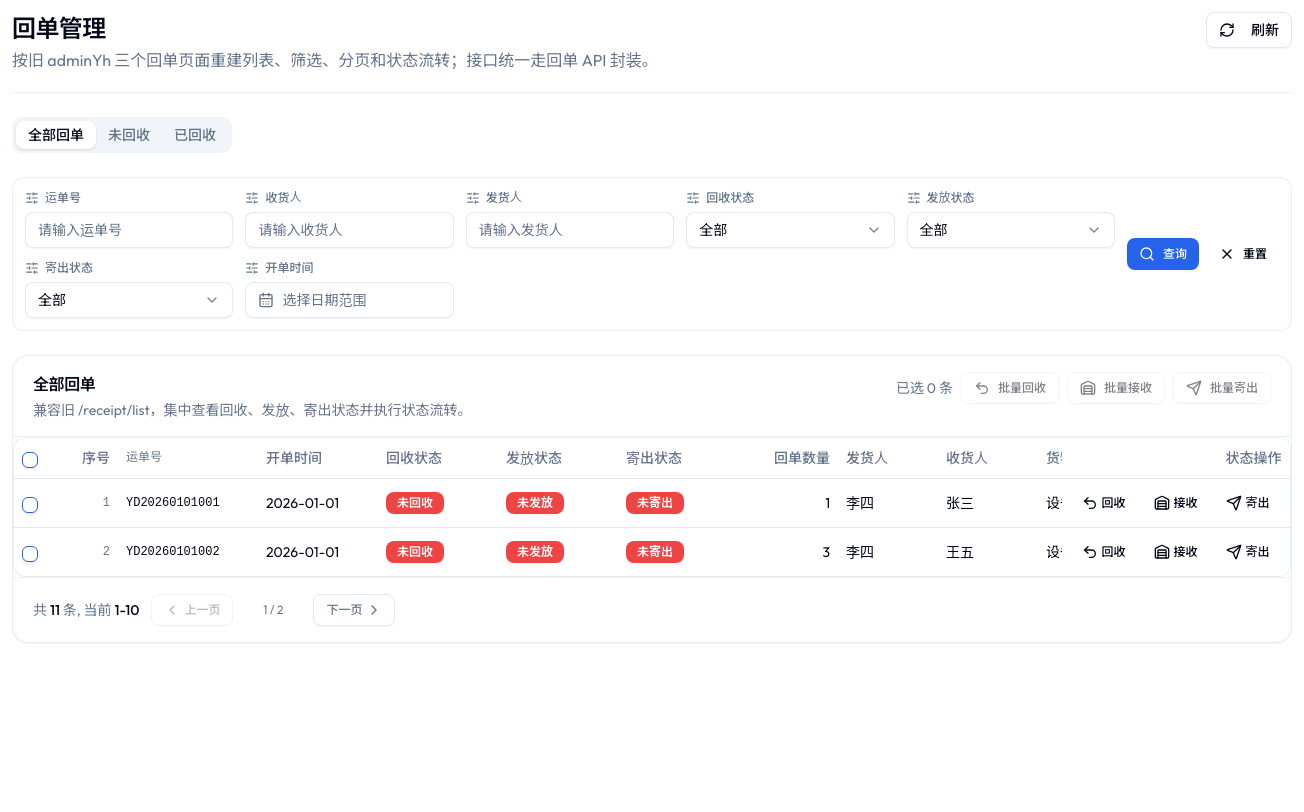
Scenario: ReceiptsList › resets pagination and selected rows when switching receipt modes
Check: the text "YD20260101001" is shown, box [118,478,258,527]
Click the checkbox named "选择回单 YD20260101001" at (30, 504), box [22,496,38,512]
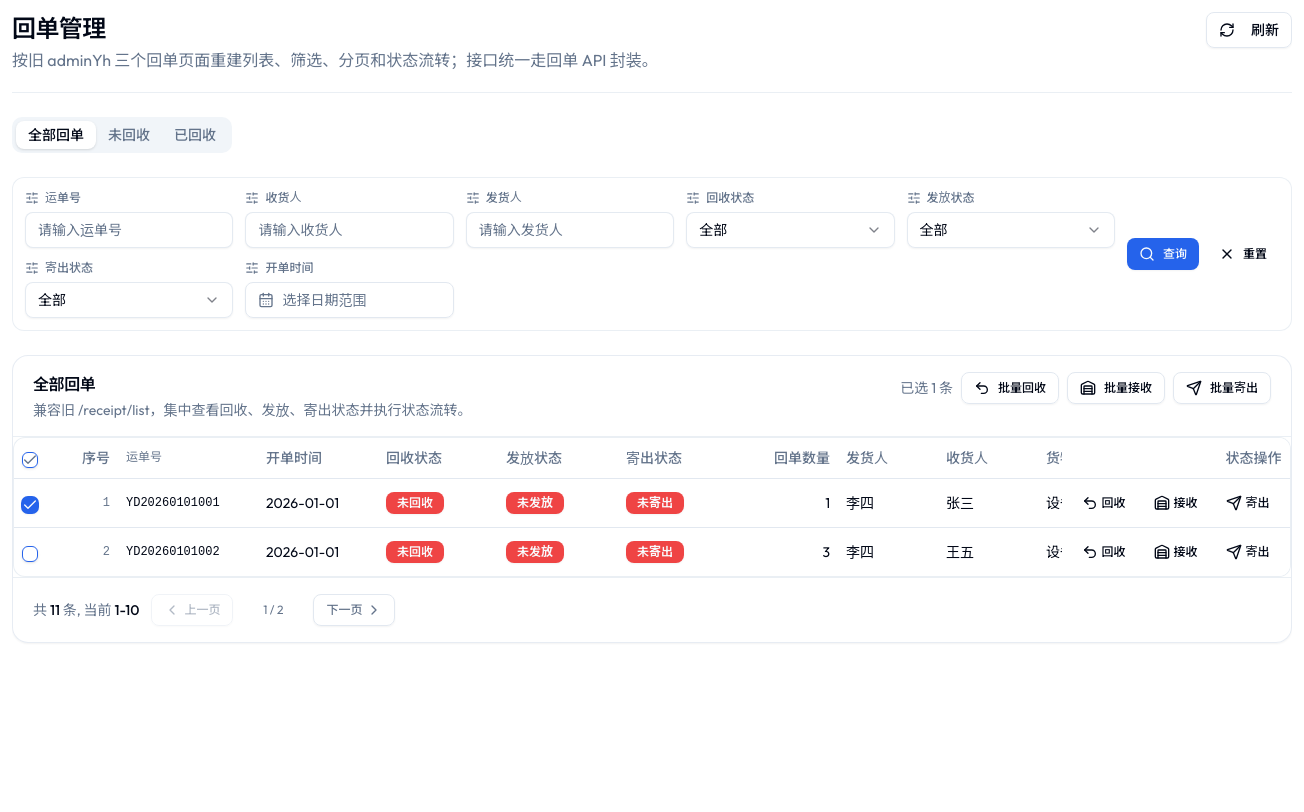
Check: the text "已选 1 条" is shown, box [900,378,953,398]
Click the button "下一页" at (354, 610), box [313,594,395,626]
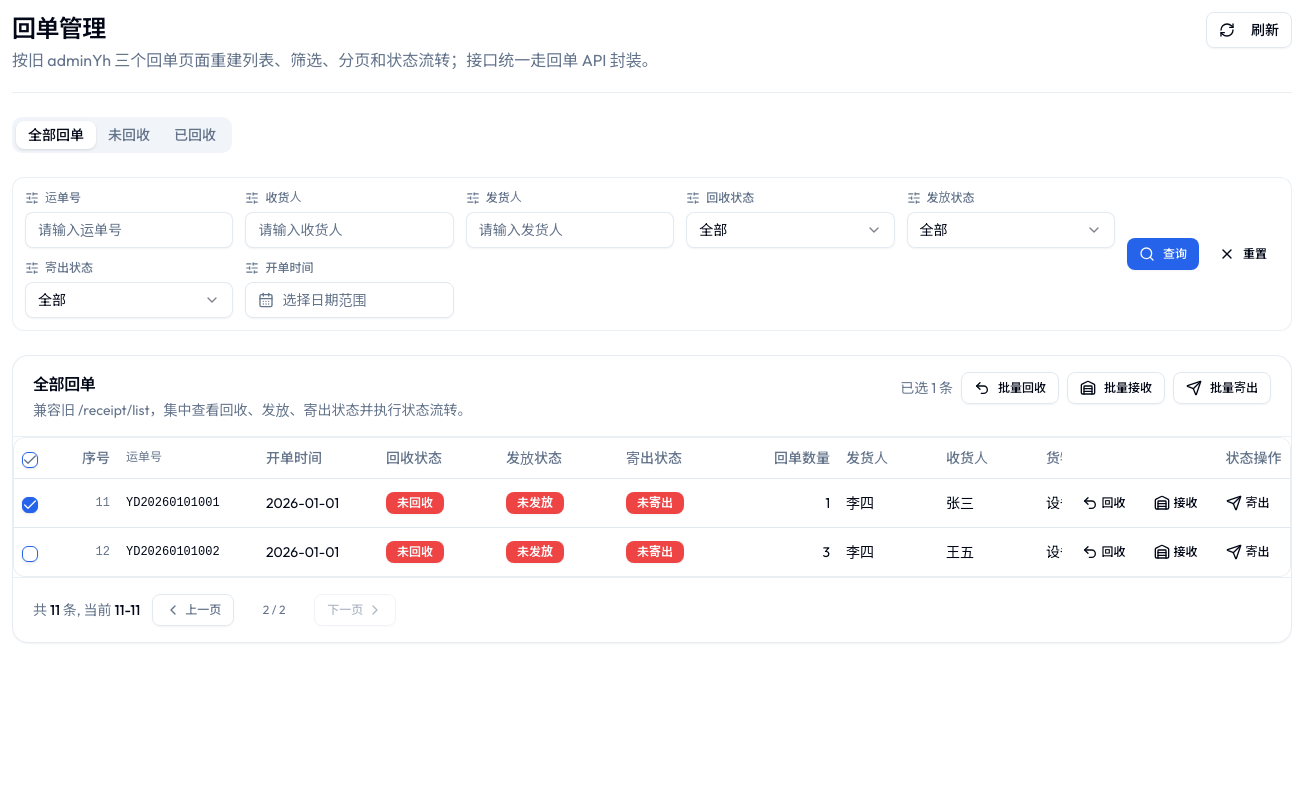
Click the tab "未回收" at (129, 135), box [96,121,162,149]
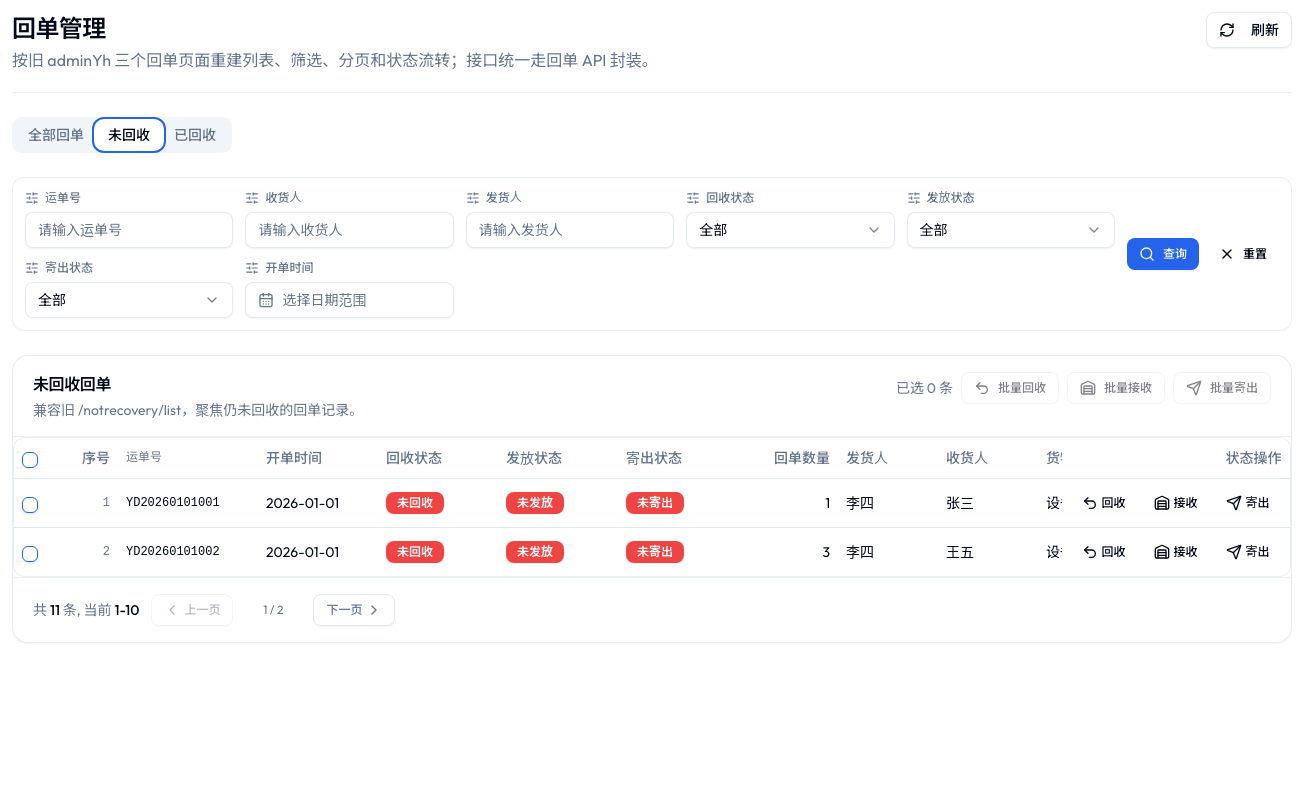
Check: the text "已选 0 条" is shown, box [896,378,953,398]
